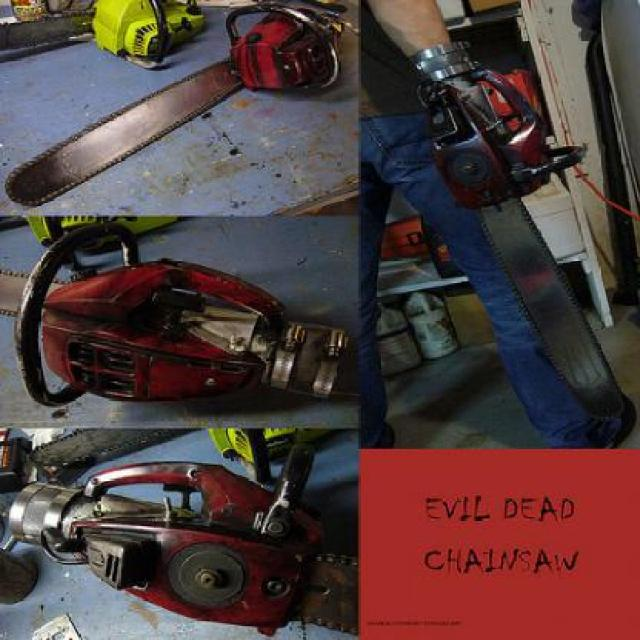Chainsaw: (416, 45, 624, 429), (2, 431, 356, 638), (0, 3, 351, 208), (0, 218, 349, 411)
